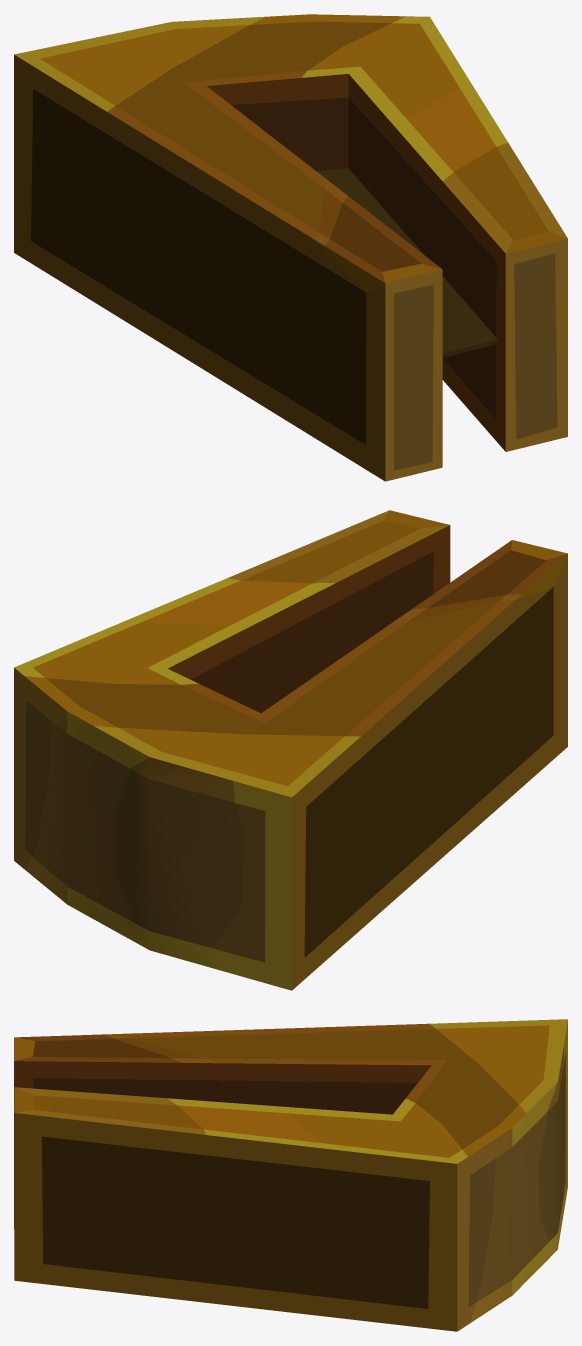
The model's file is GoldD.fbx.
3 views of the same model, one above another, from view 1: azimuth 30°, elevation 25°; view 2: azimuth 150°, elevation 25°; view 3: azimuth 270°, elevation 25° (orthographic). The views are drawn at different scales.
Parts seen in each view (by area): view 1: Maze_Archway_GoldD (Top4); view 2: Maze_Archway_GoldD (Top4); view 3: Maze_Archway_GoldD (Top4).
Boxes of the visible parts, x1,y1,x2,y2 form: Maze_Archway_GoldD (Top4): (14, 14, 567, 481); Maze_Archway_GoldD (Top4): (14, 510, 567, 990); Maze_Archway_GoldD (Top4): (14, 1019, 567, 1331).
Bounding box in the file's own units: 63.13 × 34.13 × 102.
